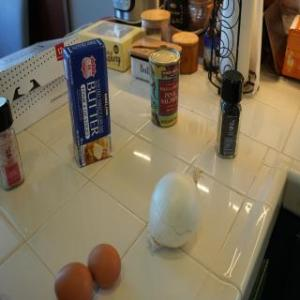egg: (80, 234, 128, 294), (50, 256, 100, 300)
onion: (141, 165, 209, 259)
